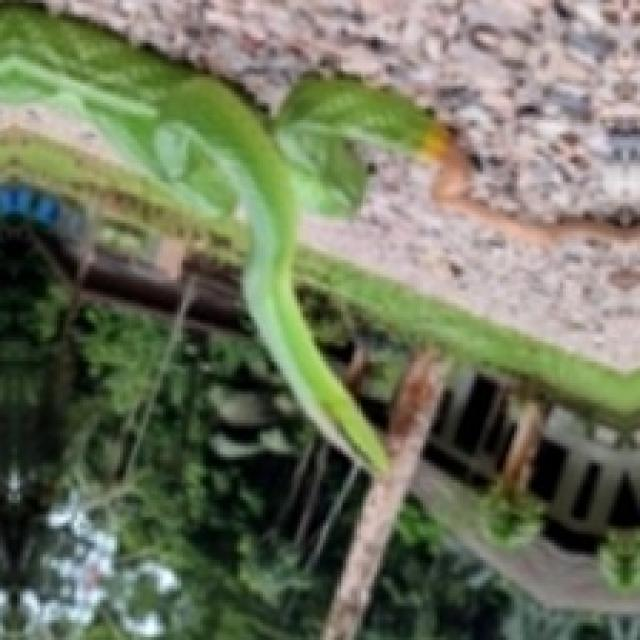red-tailed green ratsnake: (0, 9, 637, 469)
